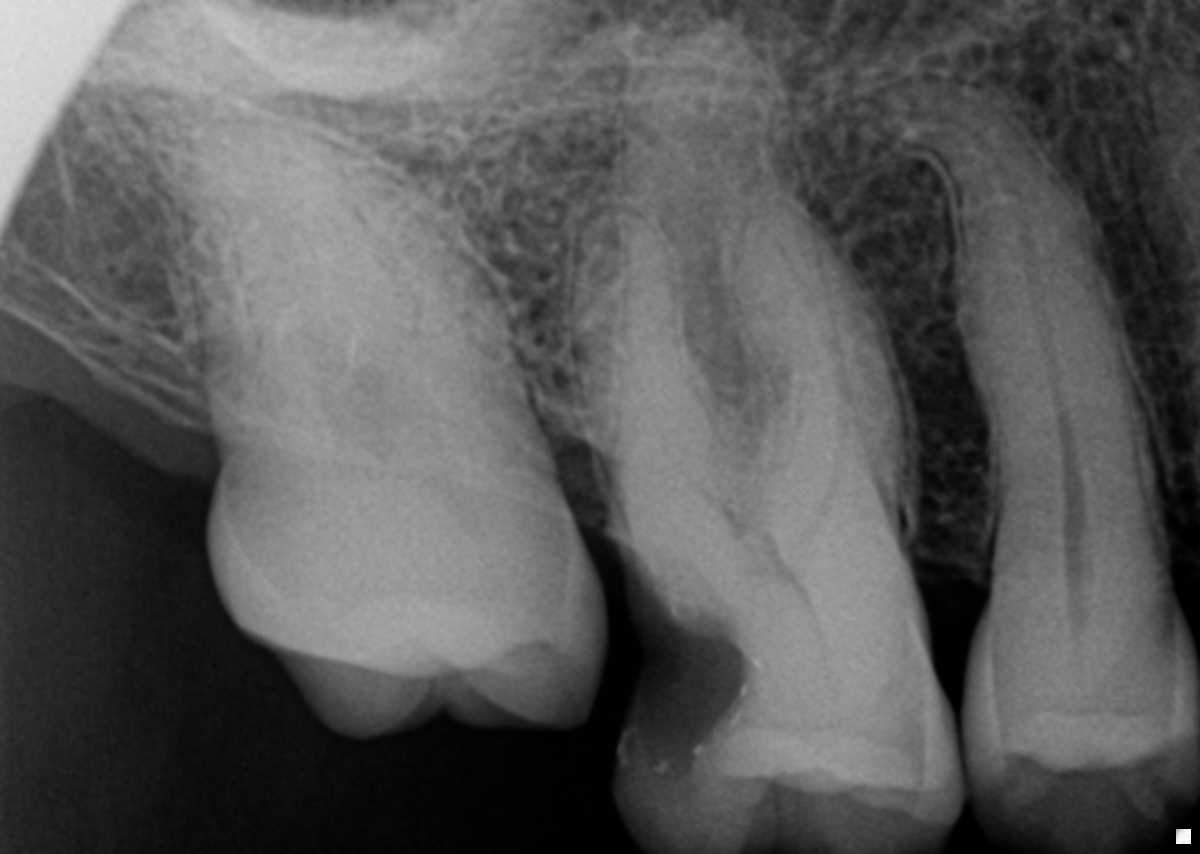Distal Canal: (652, 396, 714, 502)
Distal Root: (567, 211, 759, 550), (234, 211, 392, 405)
Main Canal: (884, 109, 1090, 565)
Main Root: (869, 71, 1168, 571)
Mesial Canal: (819, 315, 845, 525)
Mesial Root: (733, 196, 908, 550), (343, 164, 521, 409)
Palatal Root: (609, 0, 901, 541), (186, 110, 457, 456)
decay: (609, 540, 746, 784)
